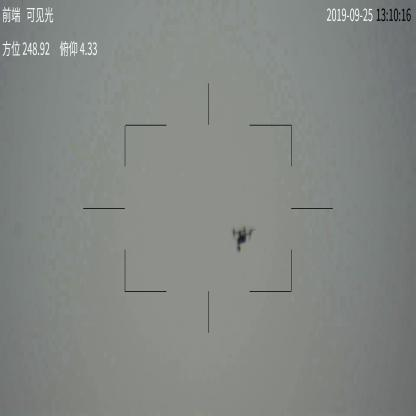uav: (231, 226, 254, 253)
